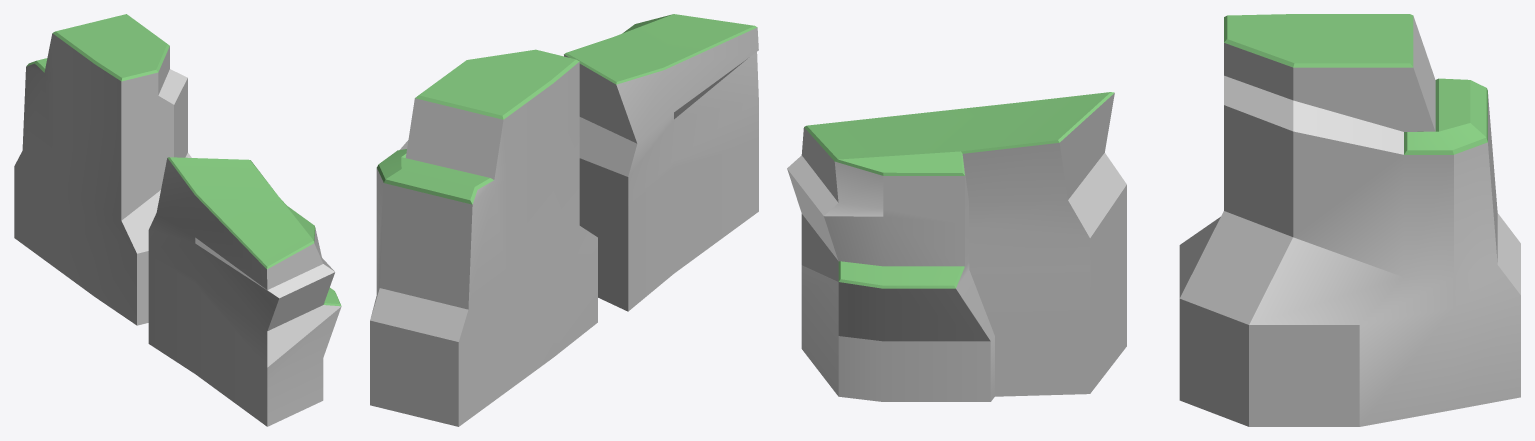
The model's file is ForegroundCliffs.fbx.
3 renders of one model, left to right at view 1: azimuth 30°, elevation 25°; view 2: azimuth 150°, elevation 25°; view 3: azimuth 270°, elevation 25°, orthographic. The views are drawn at different scales.
Visible parts, largest first — view 1: Cliff_2, Cliff, Grass, Grass_2; view 2: Cliff_2, Cliff, Grass_2, Grass; view 3: Cliff_2, Cliff, Grass, Grass_2.
Boxes of the visible parts, x1,y1,x2,y2 form: Cliff_2: (14, 33, 191, 325); Cliff: (148, 158, 341, 426); Grass: (167, 157, 341, 306); Grass_2: (26, 14, 169, 81); Cliff_2: (370, 62, 597, 426); Cliff: (564, 27, 758, 311); Grass_2: (377, 49, 579, 204); Grass: (564, 14, 757, 84); Cliff_2: (1179, 16, 1520, 426); Cliff: (787, 93, 1126, 401); Grass: (804, 92, 1114, 288); Grass_2: (1224, 14, 1487, 154).
Bounding box in the file's own units: 545 × 1010 × 1993.
